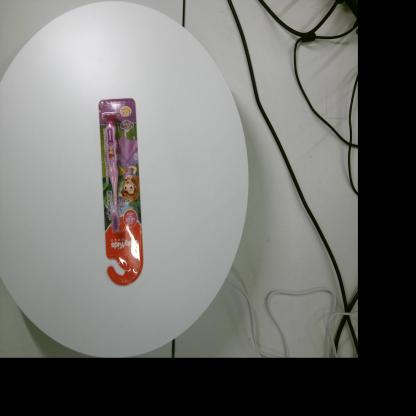Personal Hygiene: (99, 98, 143, 285)
